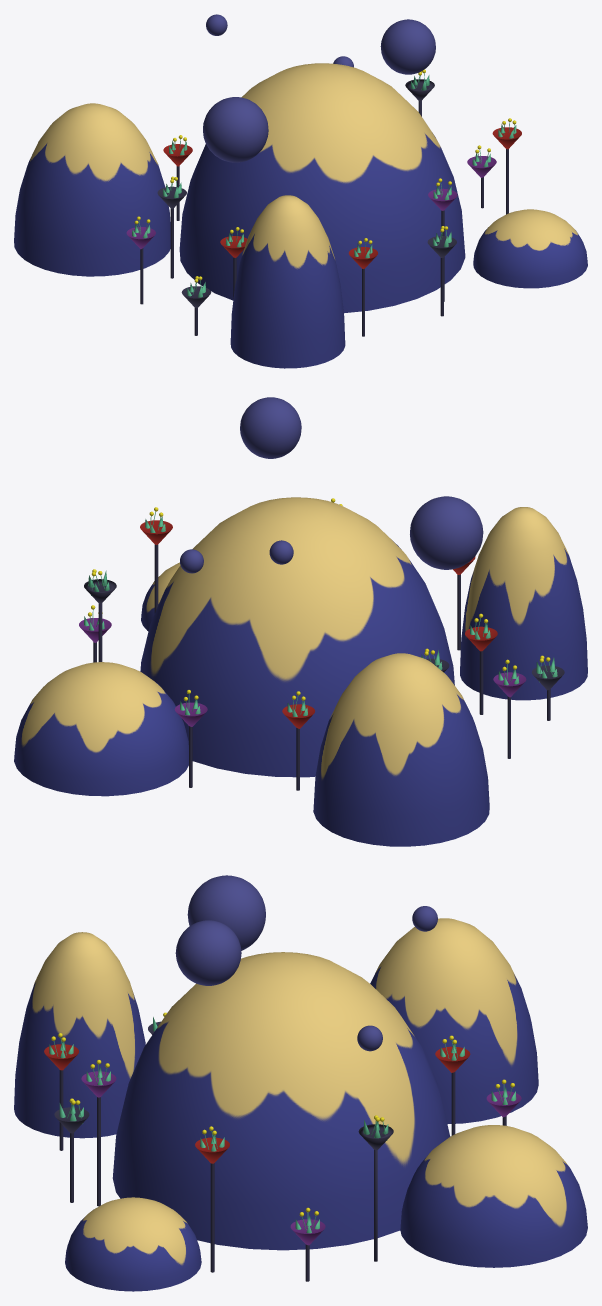
File: rock_round.glb
3 renders of one model, top to bottom at view 1: azimuth 30°, elevation 25°; view 2: azimuth 150°, elevation 25°; view 3: azimuth 270°, elevation 25°, orthographic. The views are drawn at different scales.
Parts seen in each view (by area): view 1: Sphere.001; view 2: Sphere.001; view 3: Sphere.001.
Boxes of the visible parts, x1,y1,x2,y2 form: Sphere.001: [14, 14, 587, 368]; Sphere.001: [14, 397, 587, 846]; Sphere.001: [14, 875, 587, 1291].
Bounding box in the file's own units: 13.84 × 7.65 × 13.6.
8 materials, 1 textured.
